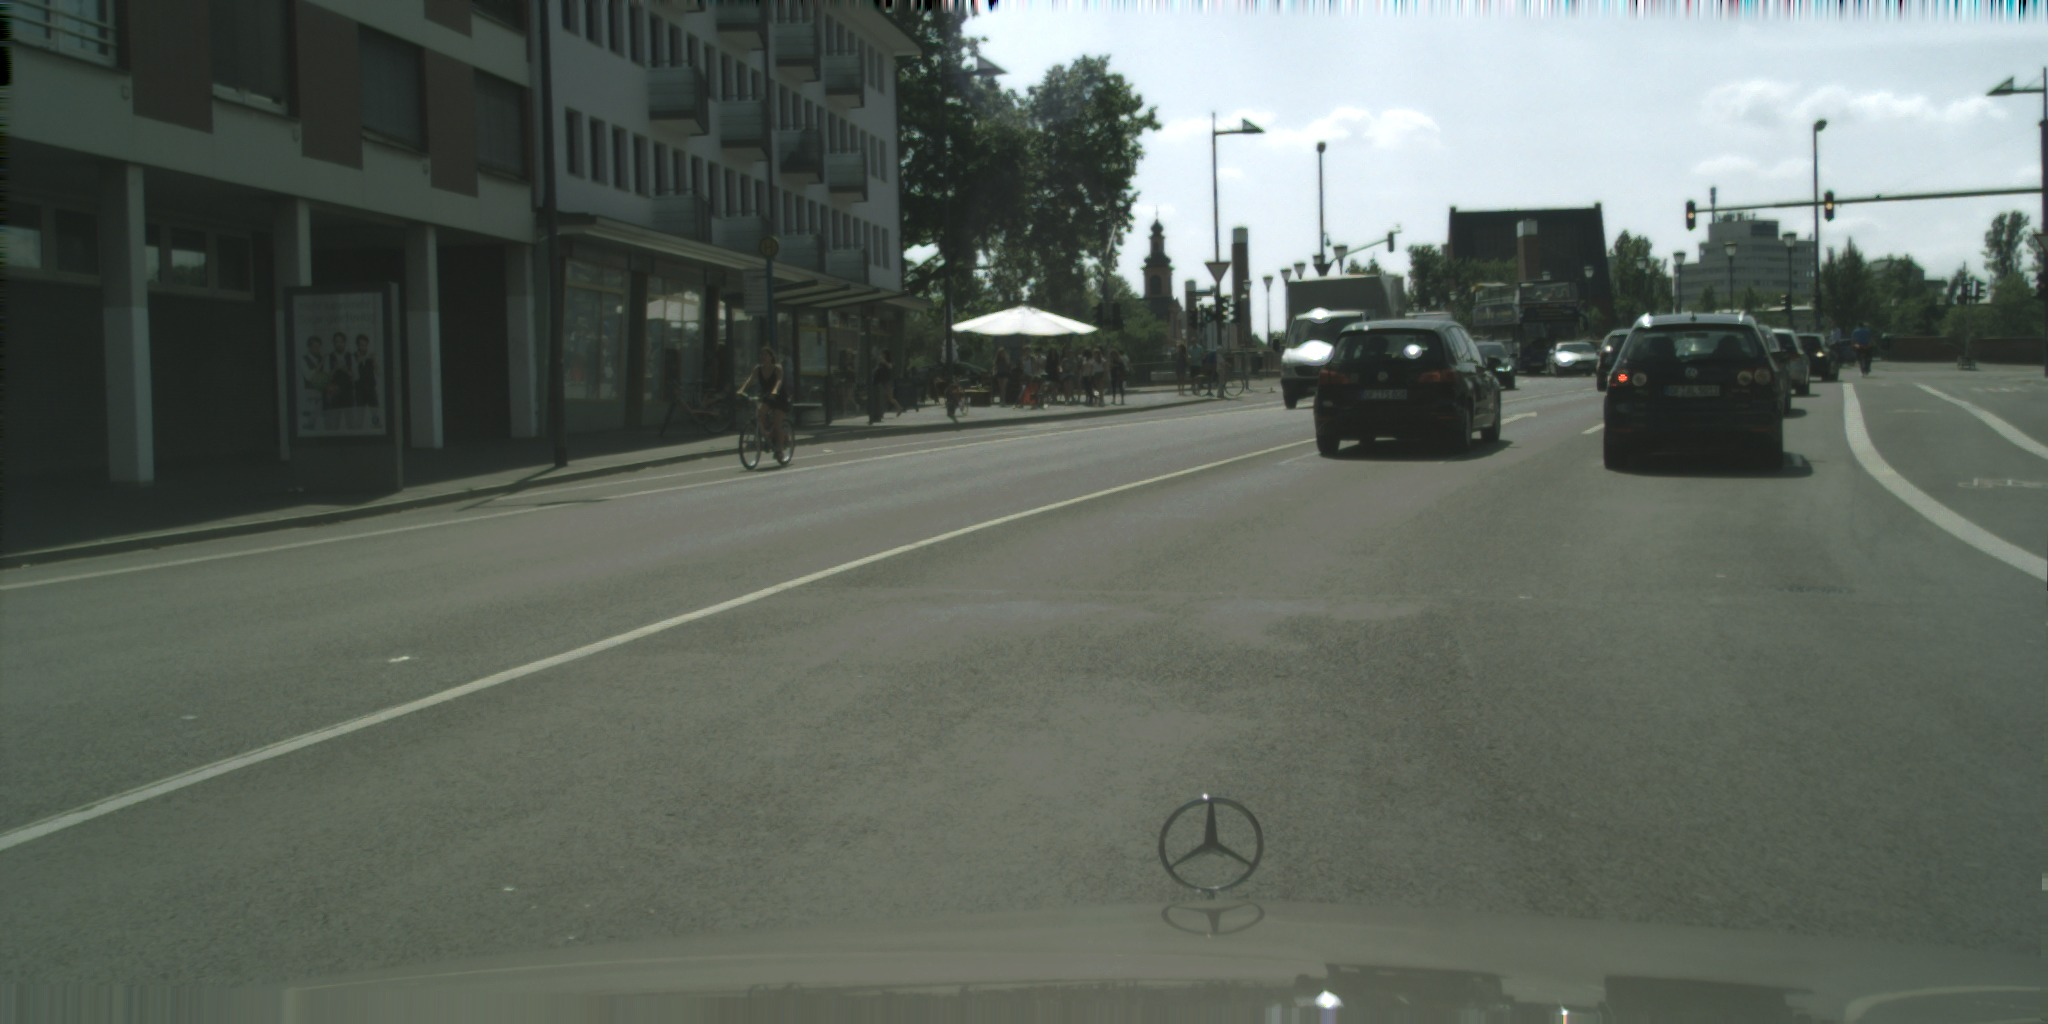bicycle: (734, 390, 795, 471), (658, 380, 735, 438), (1191, 374, 1245, 398), (1852, 342, 1875, 379), (943, 385, 970, 416), (1832, 349, 1856, 368)
bus: (1471, 279, 1587, 377)
car: (1602, 308, 1790, 473), (1312, 319, 1502, 456), (1724, 322, 1795, 416), (1595, 327, 1677, 393), (1743, 327, 1812, 398), (1772, 331, 1840, 383), (1450, 341, 1519, 391), (917, 359, 988, 395), (1545, 340, 1602, 378)
person: (871, 348, 905, 419), (1012, 343, 1035, 410), (1107, 348, 1132, 405), (1088, 348, 1110, 409), (1186, 336, 1206, 395), (993, 345, 1011, 407), (1058, 346, 1078, 403), (1032, 345, 1053, 399), (1044, 346, 1061, 403), (1061, 349, 1078, 405), (1081, 348, 1097, 407), (1216, 345, 1233, 399), (1116, 349, 1135, 391), (1174, 343, 1190, 395), (1074, 345, 1087, 404), (1093, 344, 1108, 391), (998, 358, 1028, 378), (1828, 319, 1842, 350)
rider: (737, 345, 790, 459), (1851, 321, 1875, 373), (1203, 348, 1221, 387)
truck: (1271, 276, 1411, 411)
